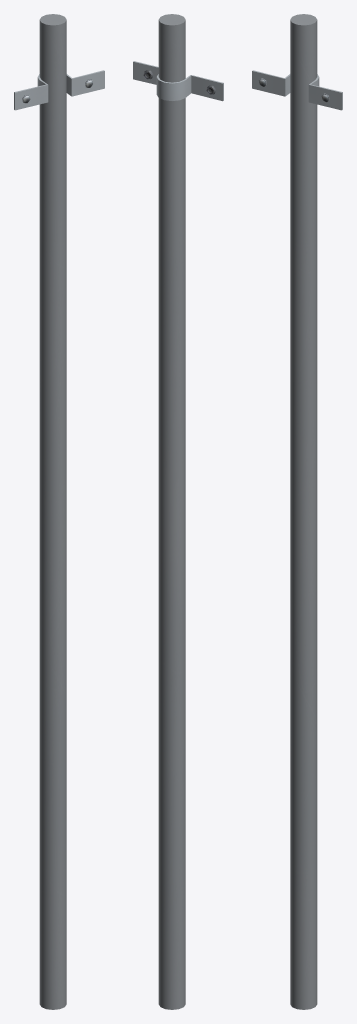
The model's file is Pole_2.fbx.
3 views of the same model, side by side, from view 1: azimuth 30°, elevation 25°; view 2: azimuth 150°, elevation 25°; view 3: azimuth 330°, elevation 25° (orthographic).
Visible parts, largest first — view 1: Pole_2; view 2: Pole_2; view 3: Pole_2.
Part boxes in pixels (box(x1,y1,x2,y2)): Pole_2: box(14, 14, 104, 1009); Pole_2: box(133, 14, 223, 1009); Pole_2: box(252, 14, 342, 1009).
Size of the model in its own units: 0.3817 by 4 by 0.1136.
